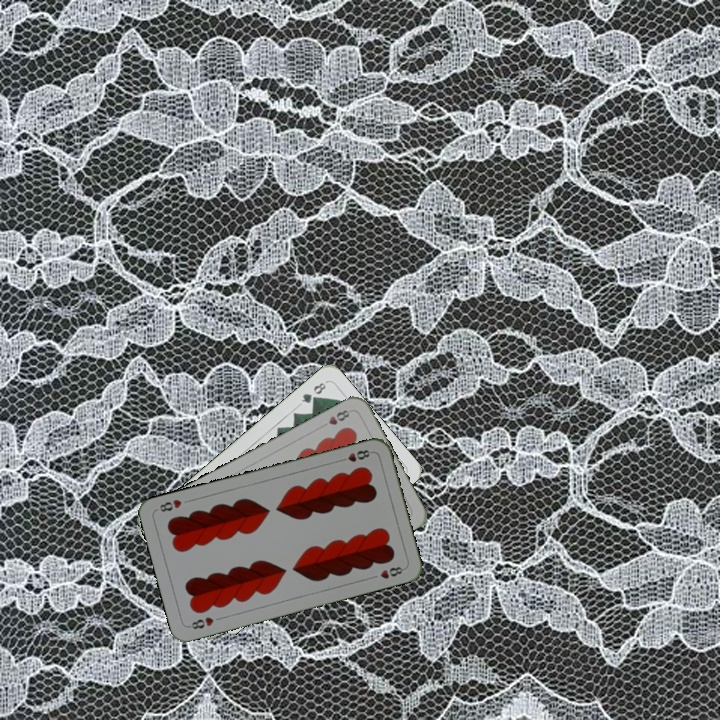G8: (297, 378, 329, 406)
H8: (335, 446, 375, 465), (324, 406, 352, 428), (185, 613, 216, 632)
